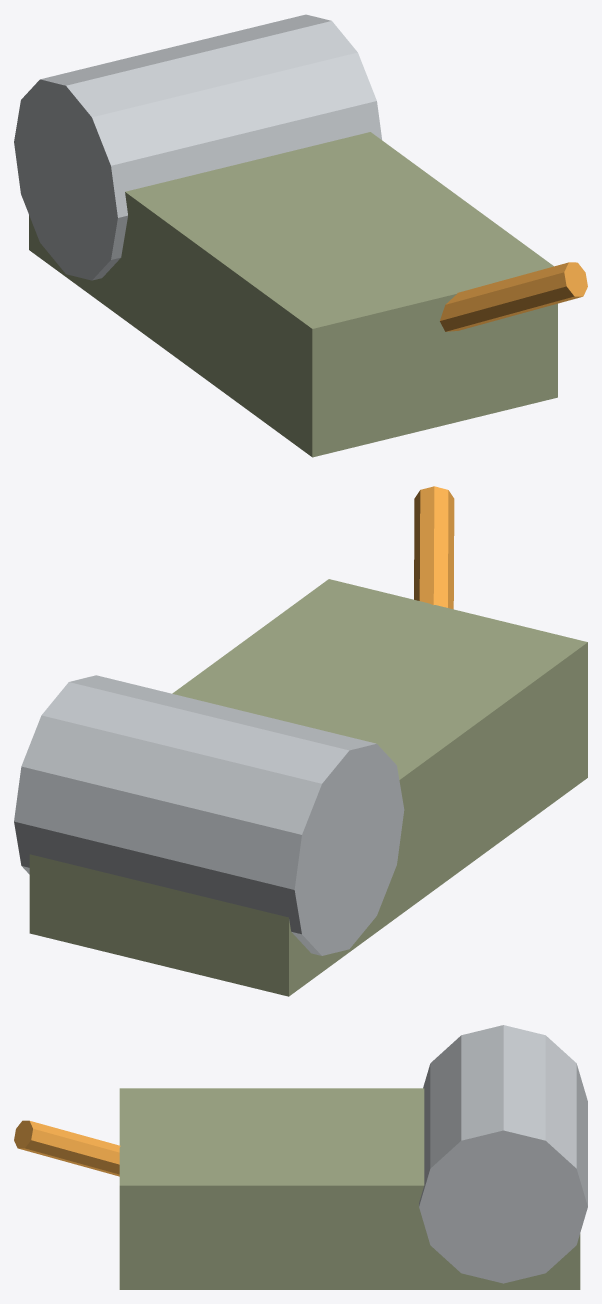
Rendered from mech-hangar-and-battle-frames-blown-off-limb-ce28ef87__26983.glb.
3 views of the same model, one above another, from view 1: azimuth 30°, elevation 25°; view 2: azimuth 150°, elevation 25°; view 3: azimuth 270°, elevation 25° (orthographic). The views are drawn at different scales.
Parts seen in each view (by area): view 1: blown-off-limb; view 2: blown-off-limb; view 3: blown-off-limb.
Boxes of the visible parts, x1,y1,x2,y2 form: blown-off-limb: (14, 14, 587, 457); blown-off-limb: (14, 486, 587, 996); blown-off-limb: (14, 1025, 587, 1289).
Size of the model in its own units: 0.65 by 0.47 by 1.49.
